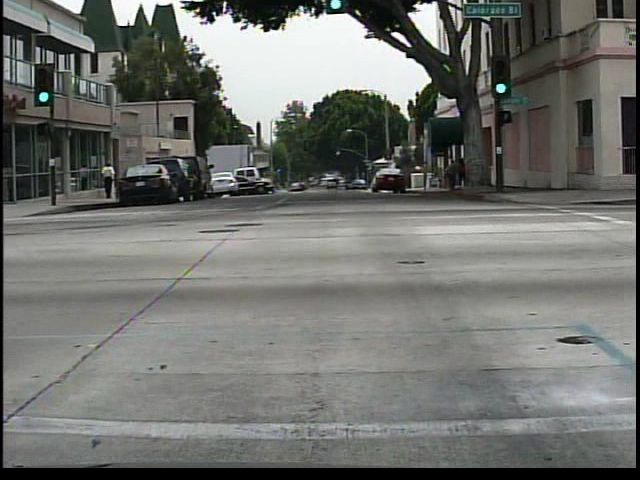person: (451, 151, 476, 199), (100, 154, 119, 201), (442, 159, 460, 193)
